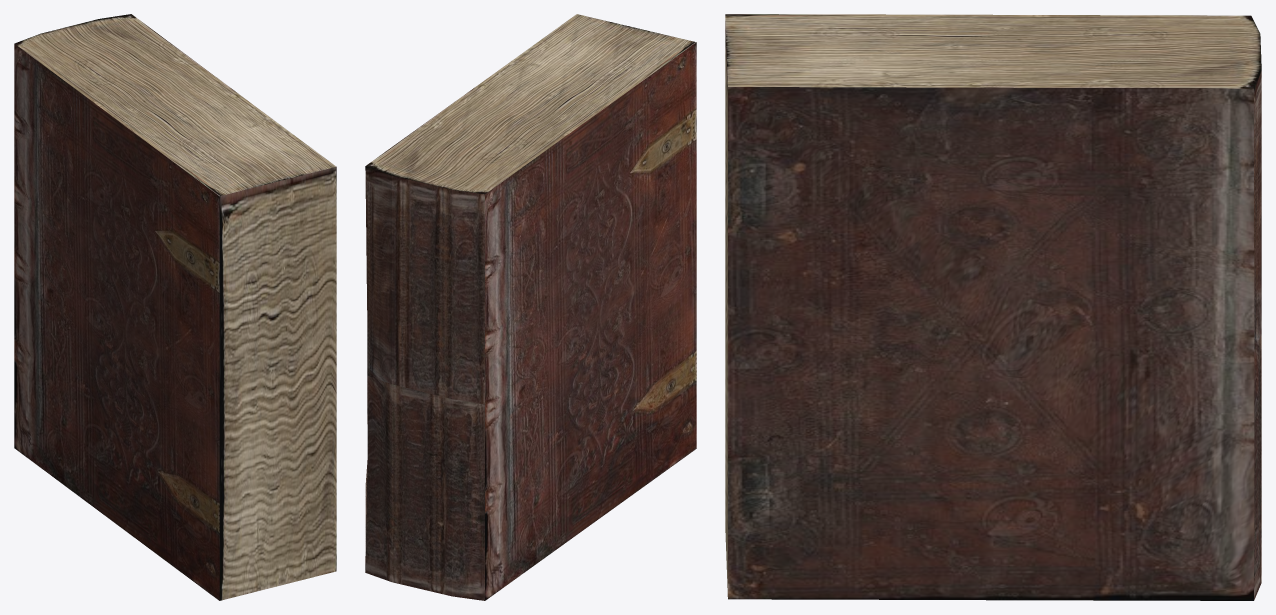
Rendered from oldbook2.glb.
3 views of the same model, side by side, from view 1: azimuth 30°, elevation 25°; view 2: azimuth 150°, elevation 25°; view 3: azimuth 270°, elevation 25° (orthographic). The views are drawn at different scales.
Visible parts, largest first — view 1: Cube; view 2: Cube; view 3: Cube.
Part boxes in pixels (left/top/right/bottom): Cube: left=14, top=14, right=336, bottom=600; Cube: left=365, top=14, right=696, bottom=600; Cube: left=725, top=14, right=1261, bottom=600.
Bounding box in the file's own units: 5.01 × 16.04 × 15.22.
1 material, 1 textured.
